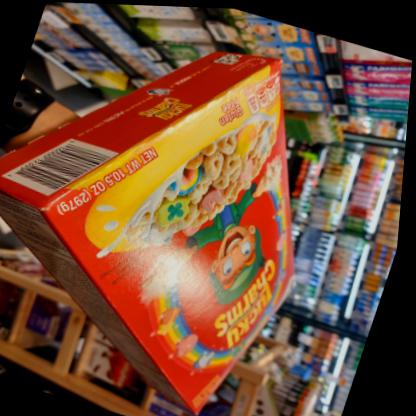i: (0, 0, 379, 415), (322, 37, 413, 113)
